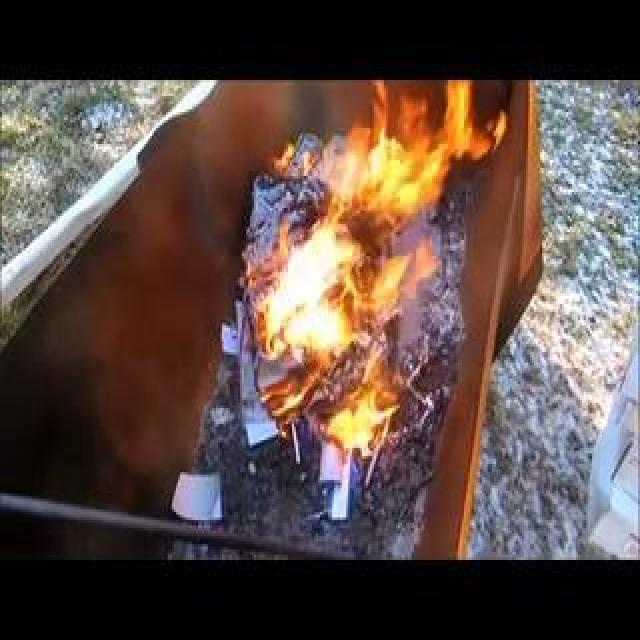Fire: (214, 266, 339, 374)
